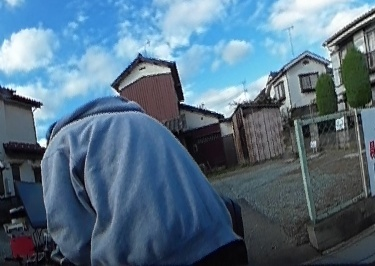person: (47, 102, 246, 266)
